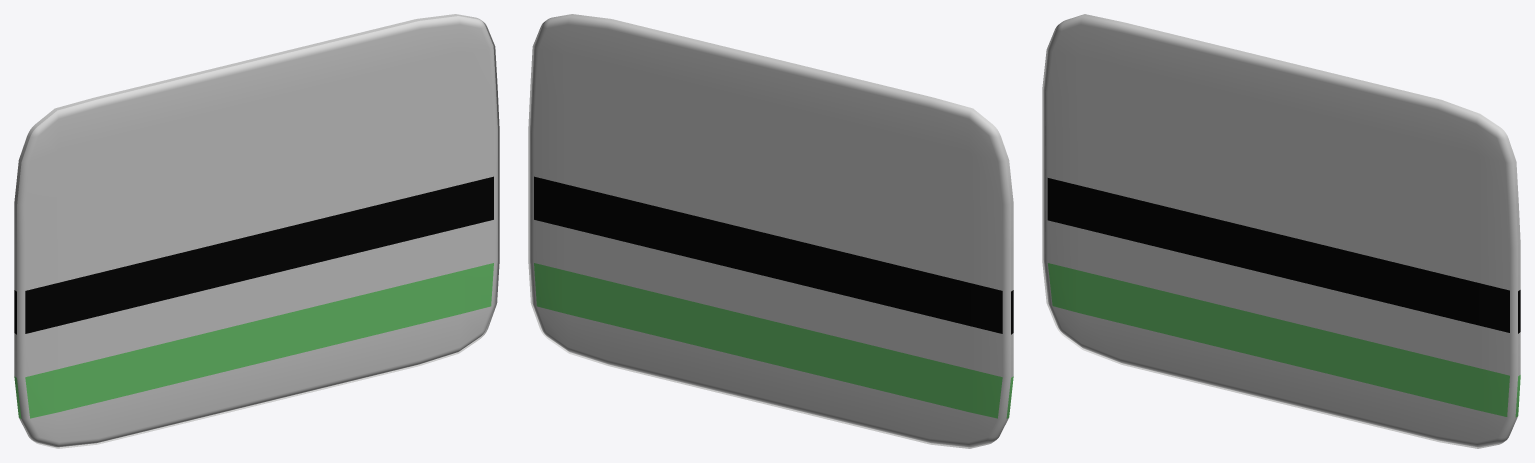
Rendered from keycard.fbx.
3 views of the same model, side by side, from view 1: azimuth 30°, elevation 25°; view 2: azimuth 150°, elevation 25°; view 3: azimuth 330°, elevation 25° (orthographic).
Visible parts, largest first — view 1: Cube_1; view 2: Cube_1; view 3: Cube_1.
Part boxes in pixels (x1,y1,x2,y2): Cube_1: [14, 14, 499, 448]; Cube_1: [528, 14, 1013, 448]; Cube_1: [1042, 14, 1520, 448].
Size of the model in its own units: 347 by 237 by 6.61.
